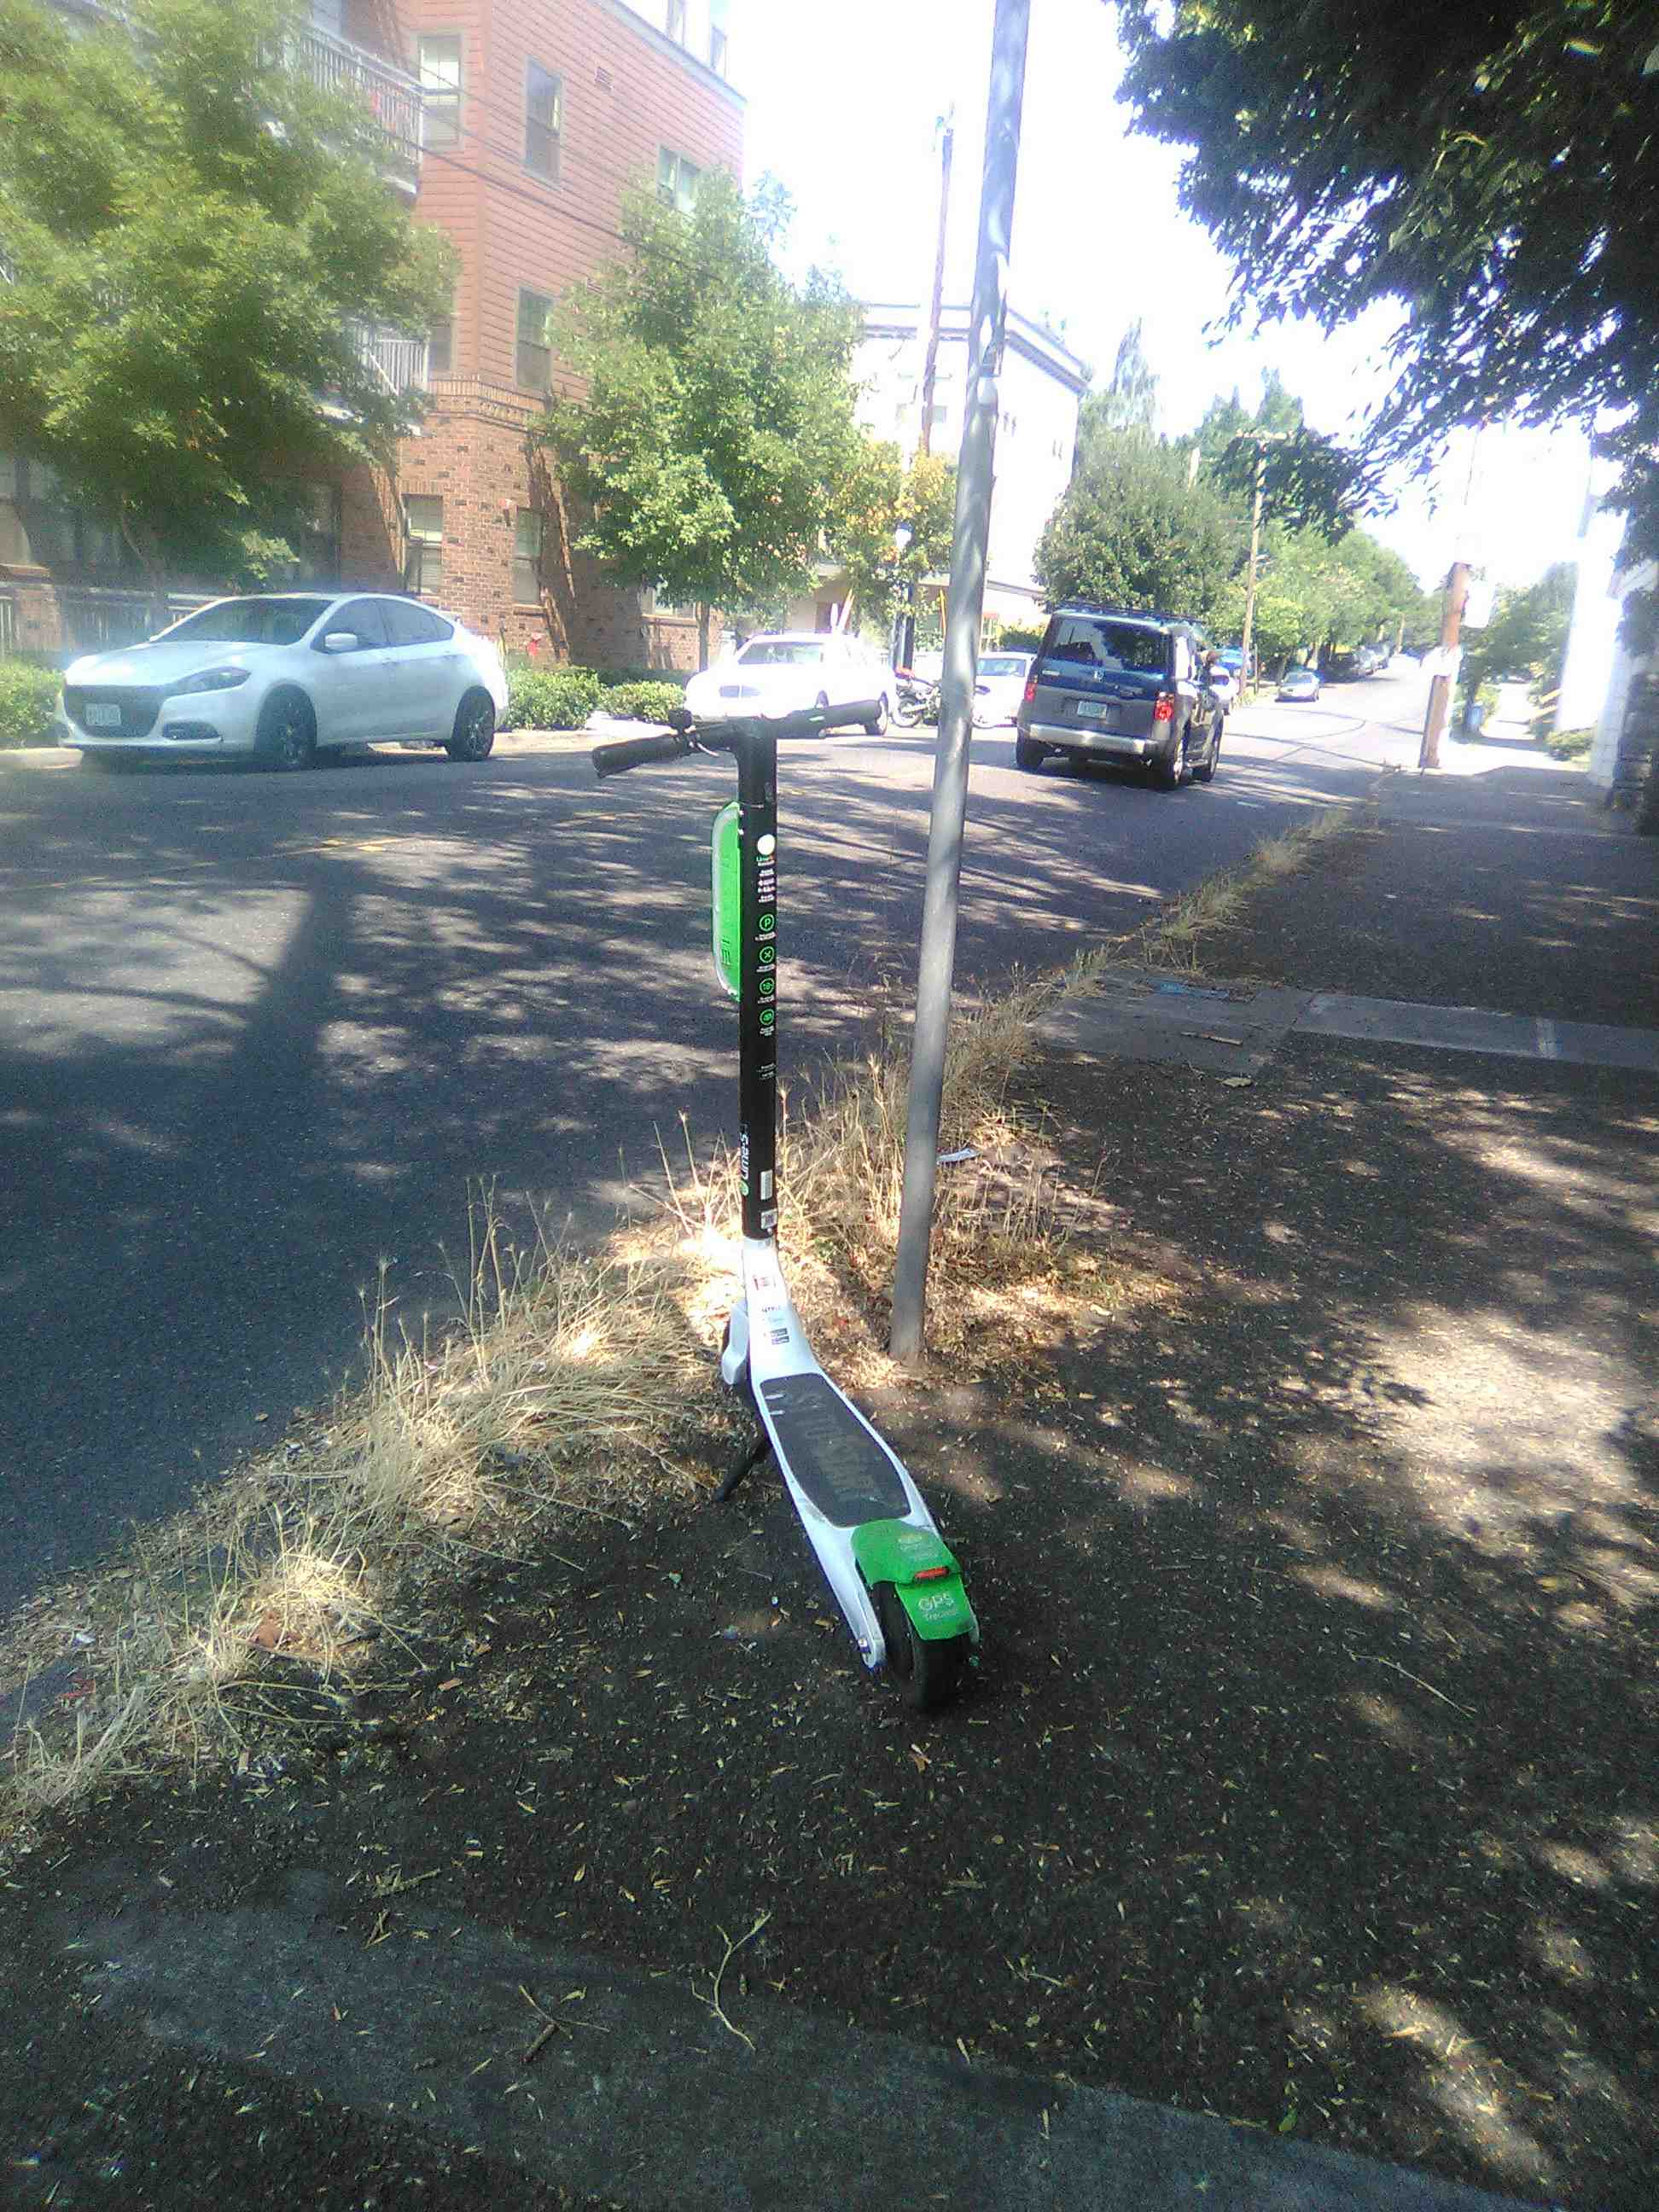scooter: (549, 745, 1025, 1763)
